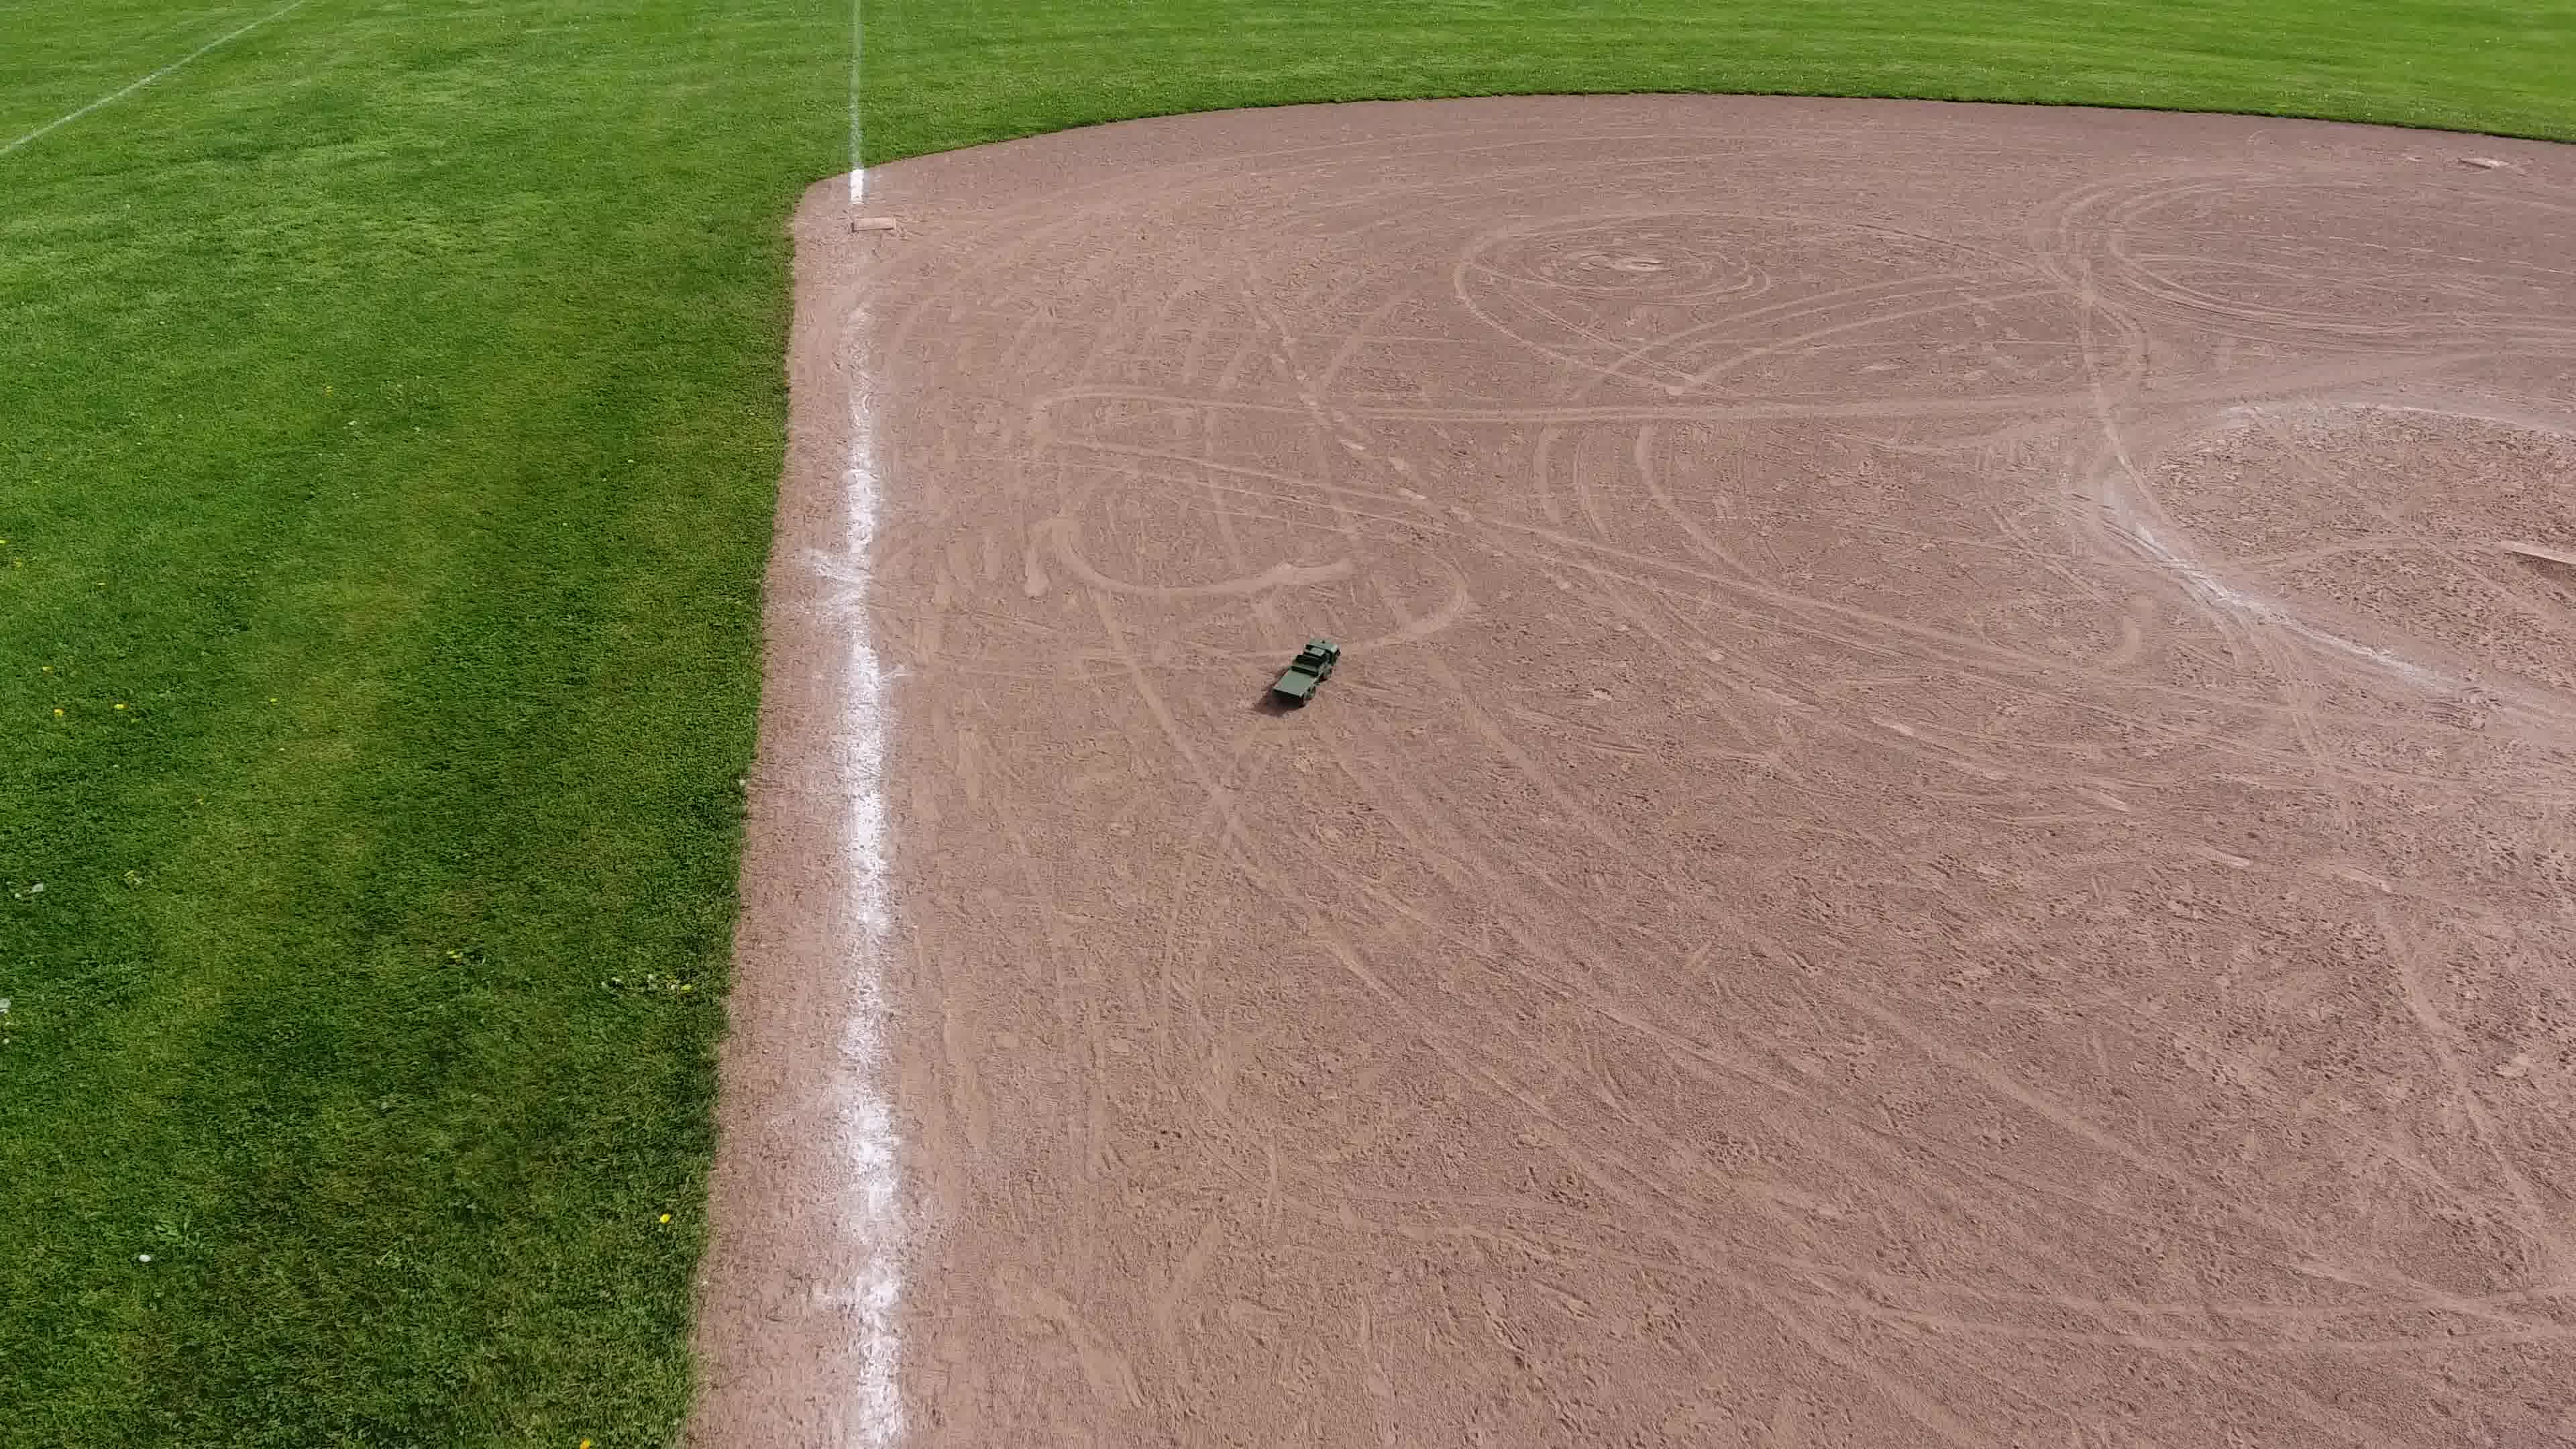transporter9: (1267, 635, 1343, 709)
